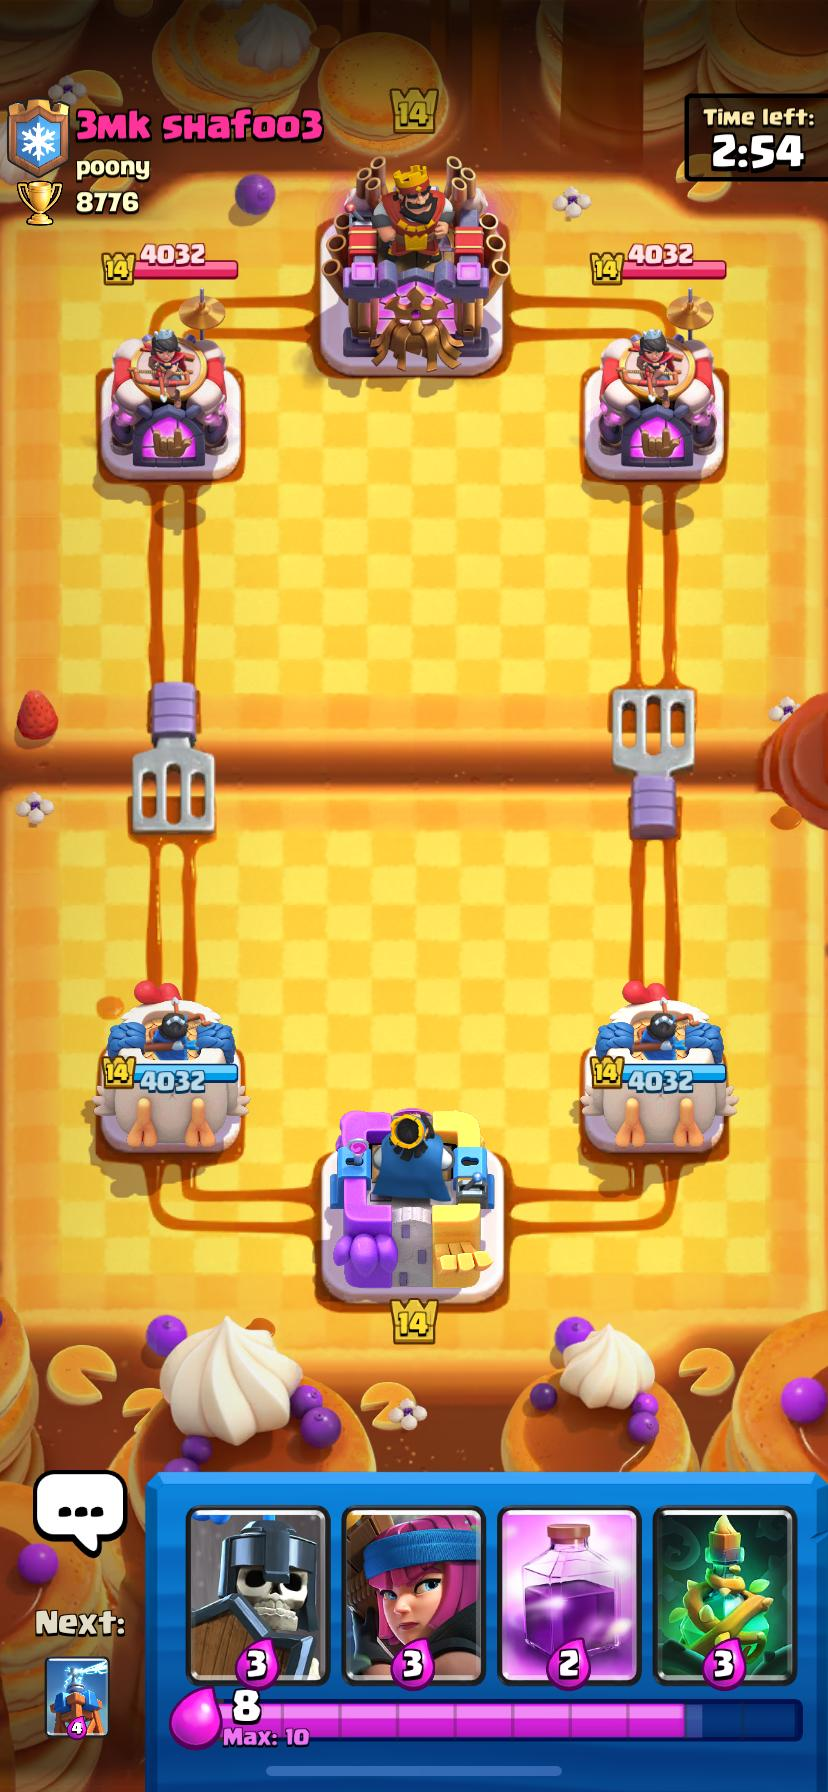EKingTower: (320, 155, 509, 376)
EnemyPrincessTower: (99, 329, 241, 481), (584, 329, 722, 480), (668, 288, 712, 325)
OwnKingTower: (321, 1109, 503, 1303)
OwnPrincessTower: (580, 982, 735, 1151), (93, 984, 248, 1152)
